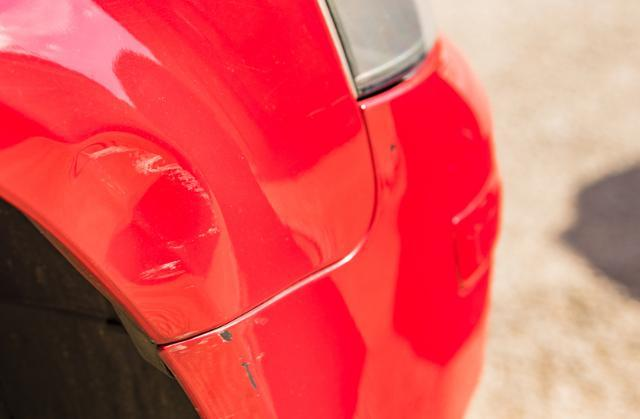Bumper: (168, 313, 304, 418)
Fender: (45, 104, 264, 301)
